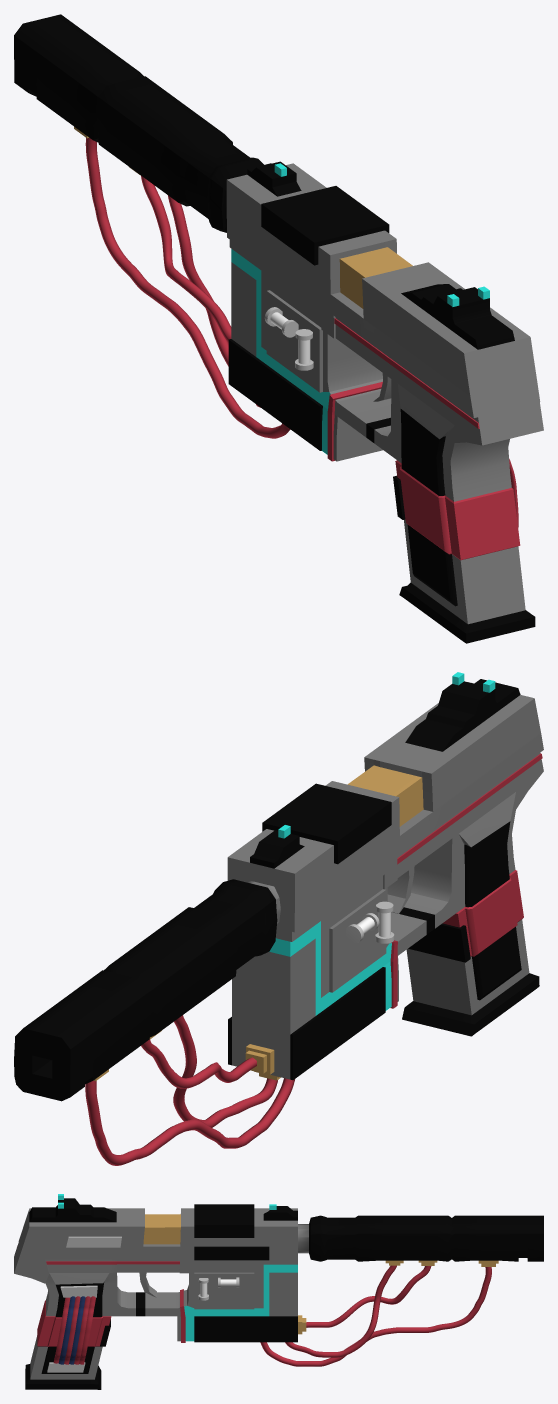
Rendered from pistol_model.fbx.
3 views of the same model, one above another, from view 1: azimuth 30°, elevation 25°; view 2: azimuth 150°, elevation 25°; view 3: azimuth 270°, elevation 25° (orthographic). The views are drawn at different scales.
Visible parts, largest first — view 1: defaultBrush4Main4; view 2: defaultBrush4Main4; view 3: defaultBrush4Main4.
Boxes of the visible parts, x1,y1,x2,y2 form: defaultBrush4Main4: (14, 14, 543, 643); defaultBrush4Main4: (14, 672, 543, 1165); defaultBrush4Main4: (14, 1194, 543, 1389).
Size of the model in its own units: 2.52 by 7.97 by 21.14.
